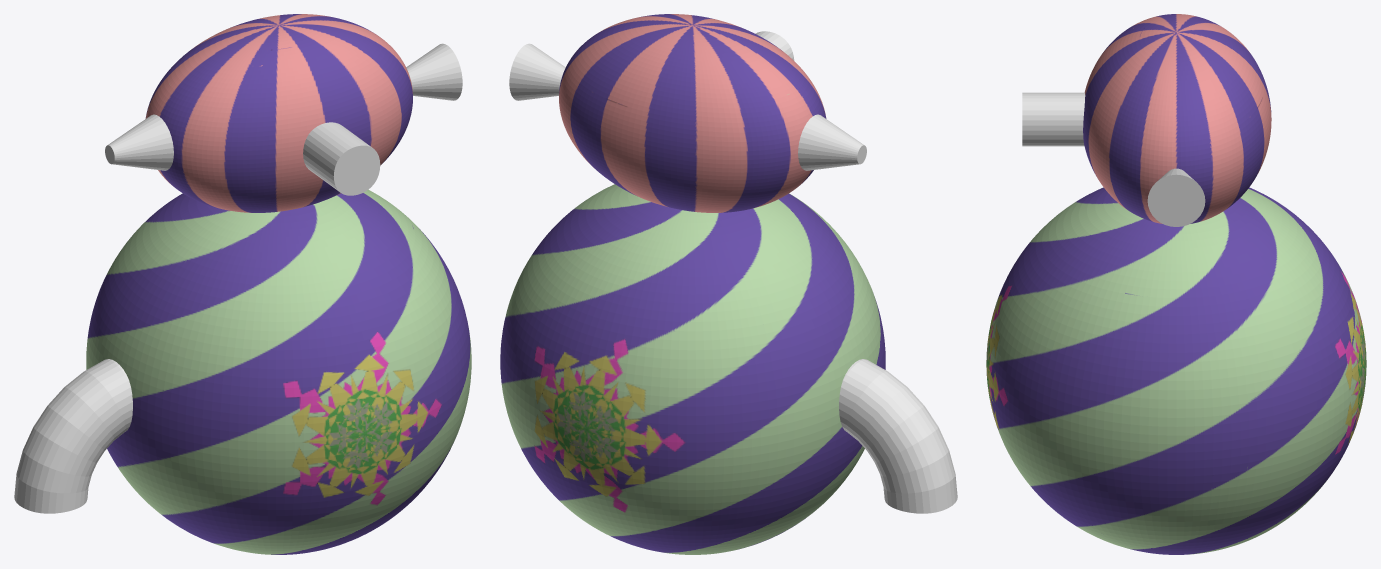
File: BOD0_BMC9_BCC14_BPT3_FRC3_HEA1_HMC11_HCC9_HPT2_ELT2_ERT3_ELL1_ERL2_AP1_AAL2_AAR0_BEK1.fbx
3 renders of one model, left to right at view 1: azimuth 30°, elevation 25°; view 2: azimuth 150°, elevation 25°; view 3: azimuth 270°, elevation 25°, orthographic.
Parts seen in each view (by area): view 1: Body, Arm, Beak, Ear, Ear.001; view 2: Body, Arm, Ear, Ear.001; view 3: Body, Beak, Ear.001.
Boxes of the visible parts, x1,y1,x2,y2 form: Body: (86, 14, 471, 554); Arm: (14, 359, 132, 513); Beak: (303, 122, 380, 195); Ear: (105, 114, 173, 170); Ear.001: (406, 43, 462, 100); Body: (500, 14, 885, 554); Arm: (839, 359, 957, 513); Ear: (798, 114, 866, 170); Ear.001: (509, 43, 565, 100); Body: (986, 14, 1366, 554); Beak: (1022, 92, 1085, 146); Ear.001: (1147, 168, 1205, 226).
Size of the model in its own units: 63.31 by 72.41 by 49.36.
1 material, 1 textured.
